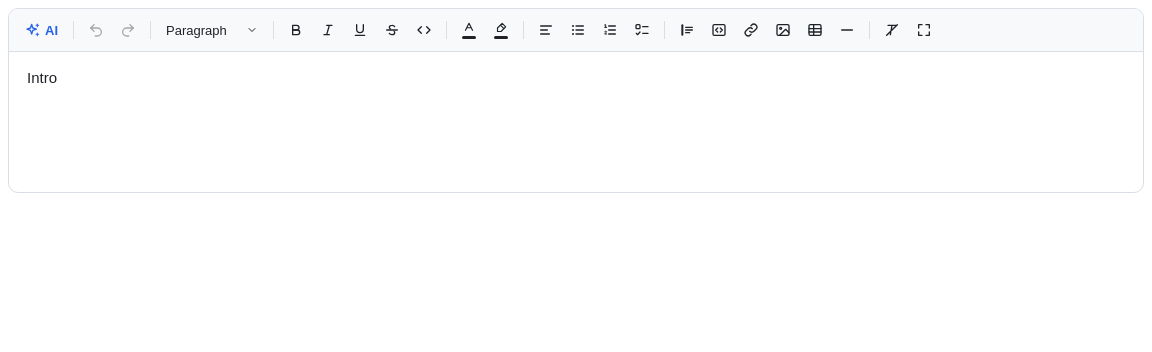
AI assistant › sends a typed instruction and inserts at the cursor when nothing is selected
Later steps or results of the test are not shown.
Expected: the field with class "richkit-content" is shown, x1=27 y1=69 x2=57 y2=86
Click the button with aria-label "Ask AI" at (42, 30), box x1=17 y1=15 x2=66 y2=45
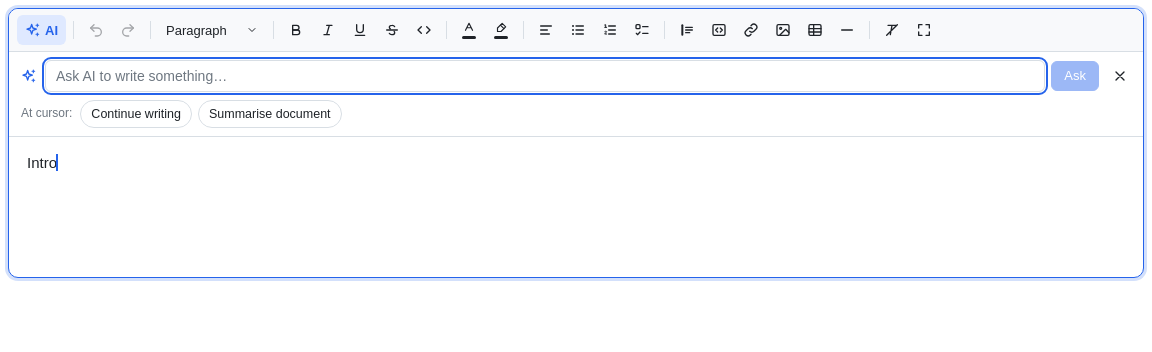
Now the button "Continue writing" is shown, box x1=80 y1=100 x2=192 y2=128
Type "Add a paragraph" into the field labelled "Ask AI" at (545, 76), box x1=45 y1=60 x2=1045 y2=92
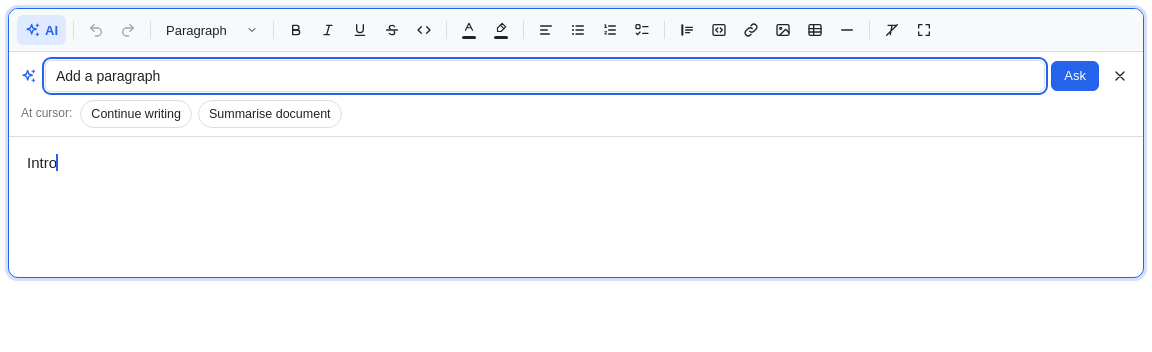
Click the button "Ask" at (1075, 76), box x1=1051 y1=61 x2=1099 y2=91
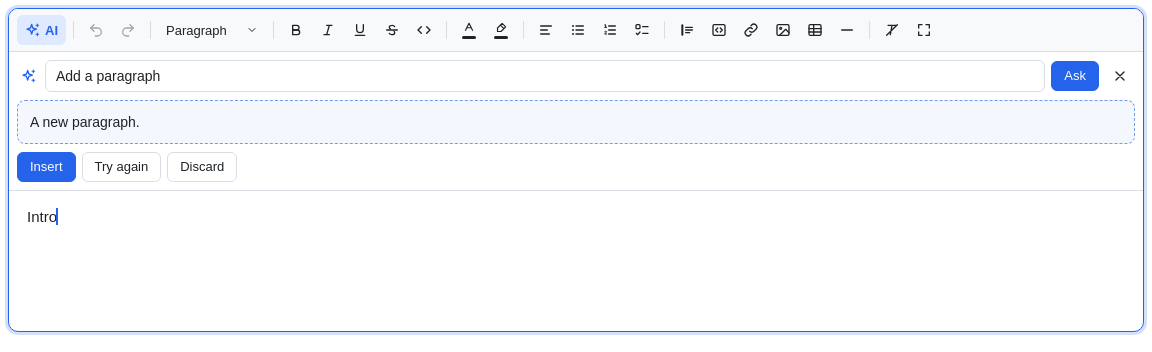
Now the button "Insert" is shown, box x1=17 y1=152 x2=76 y2=182
